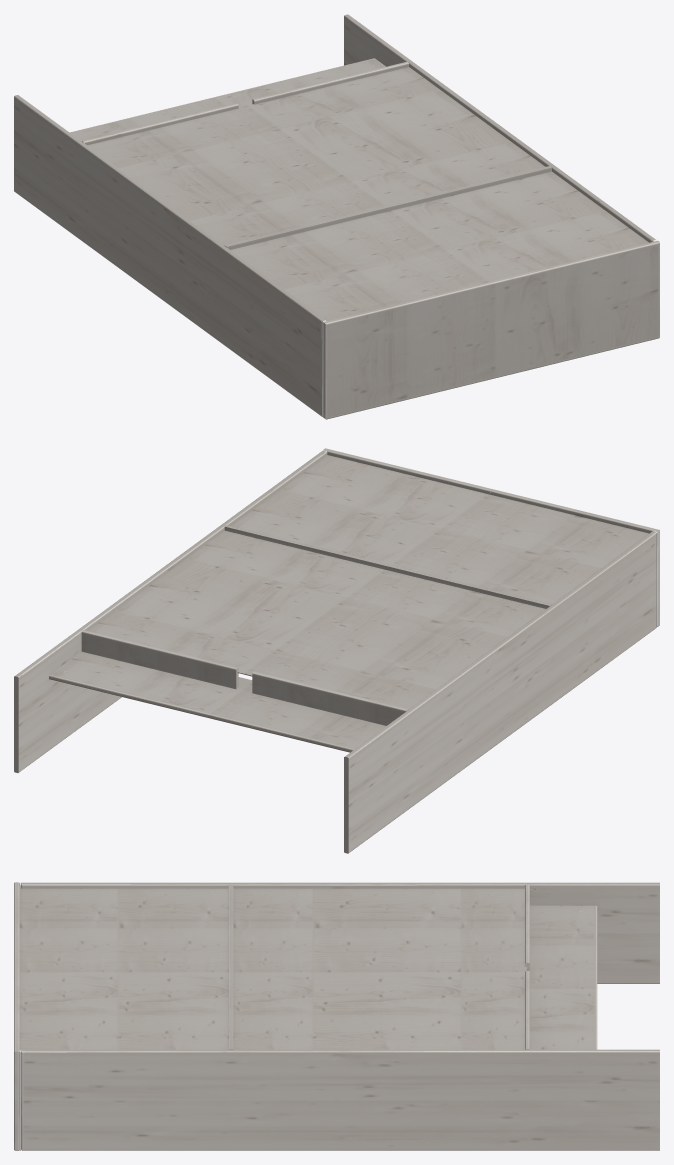
File: raw_model.glb
3 renders of one model, top to bottom at view 1: azimuth 30°, elevation 25°; view 2: azimuth 150°, elevation 25°; view 3: azimuth 270°, elevation 25°, orthographic. The views are drawn at different scales.
Parts seen in each view (by area): view 1: raw_model.052; view 2: raw_model.052; view 3: raw_model.052.
Part boxes in pixels (bbox=[...]): raw_model.052: bbox=[14, 14, 659, 419]; raw_model.052: bbox=[14, 448, 659, 853]; raw_model.052: bbox=[14, 882, 659, 1150].
Bounding box in the file's own units: 1.26 × 0.345 × 2.03.
1 material, 1 textured.
